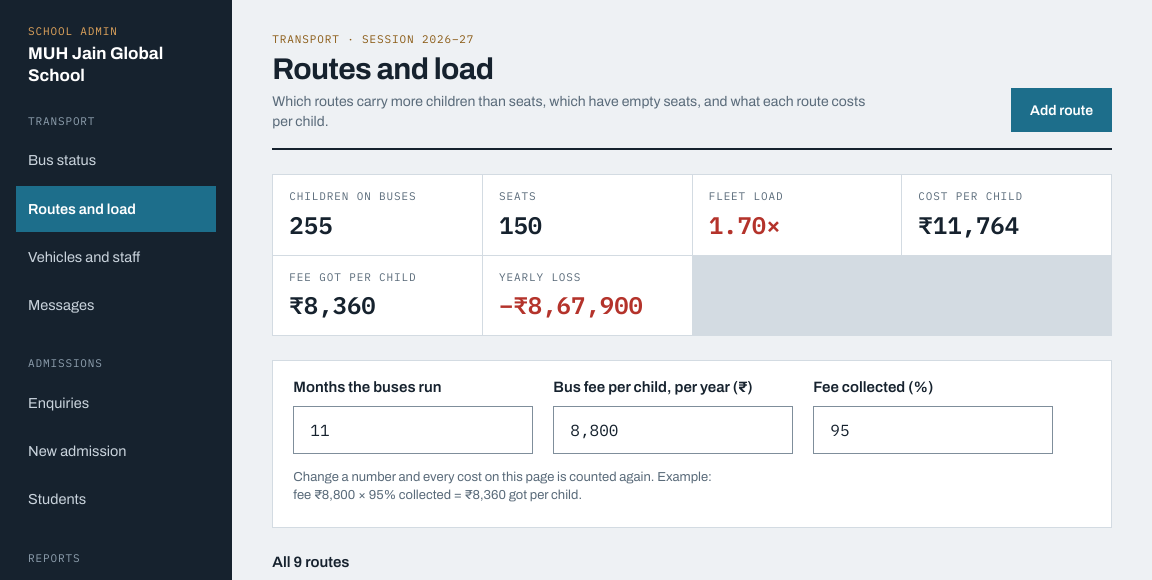
Test: Routes and load: the three numbers › shows a wrong number under the box and does not save it
The width and height of the screenshot is (1152, 580).
Replace the text in the field labelled "Months the buses run" with "13" at (413, 430), box [293,406,533,454]
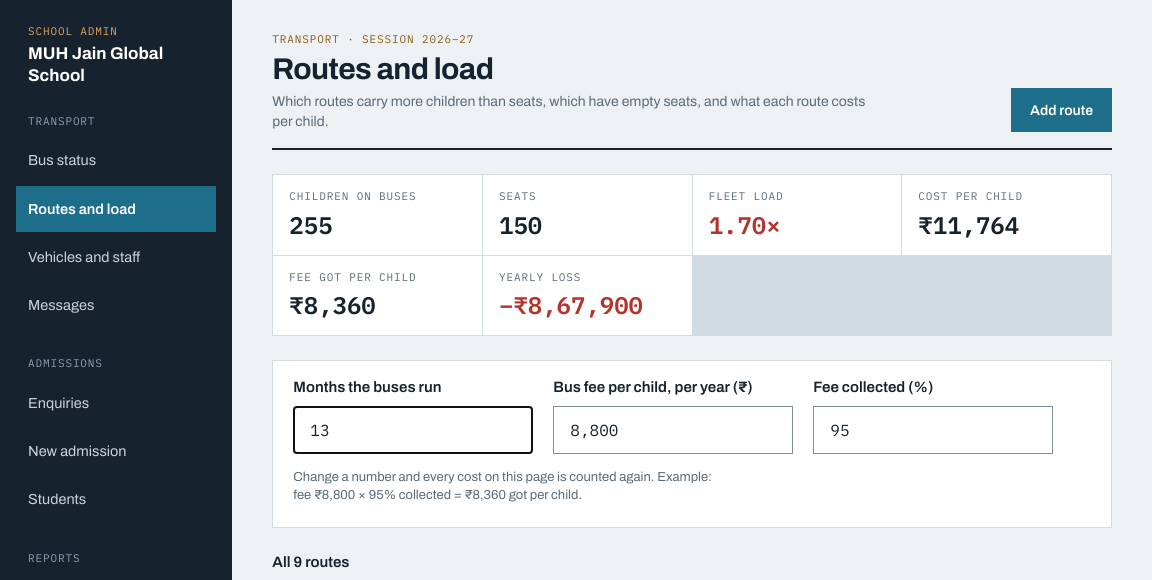
Press Tab
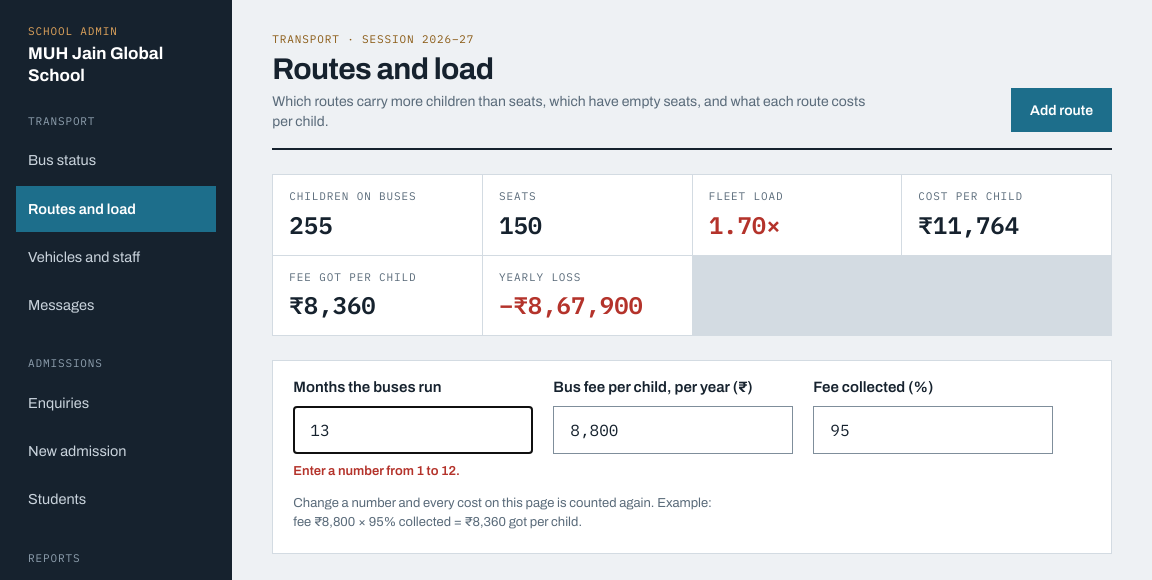
Result: the text "Enter a number from 1 to 12." is shown at [293,464,460,478]
